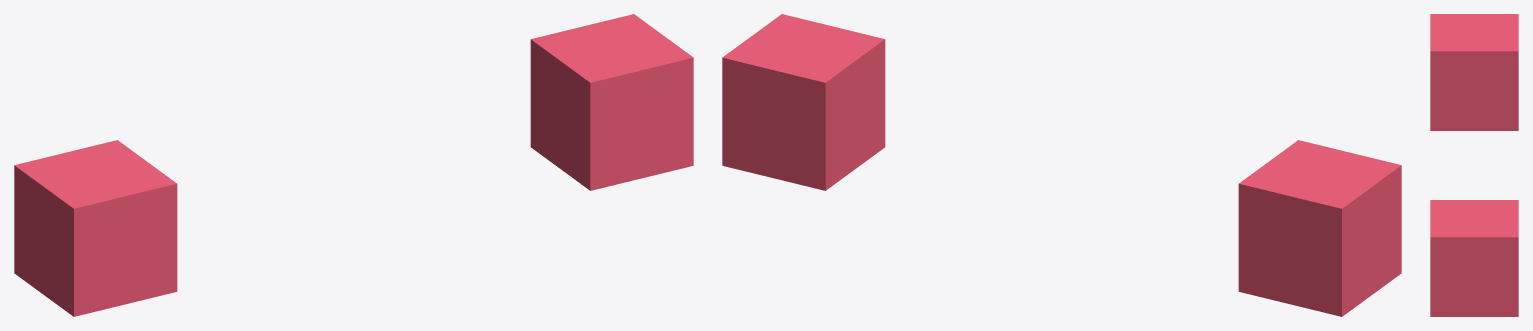
The model's file is nave3-salmao.obj.
The picture shows the model from 3 angles, left to right: view 1: azimuth 30°, elevation 25°; view 2: azimuth 150°, elevation 25°; view 3: azimuth 270°, elevation 25°; orthographic projection. The views are drawn at different scales.
Size of the model in its own units: 0.6 by 0.1 by 0.1.
1 material, 1 textured.
